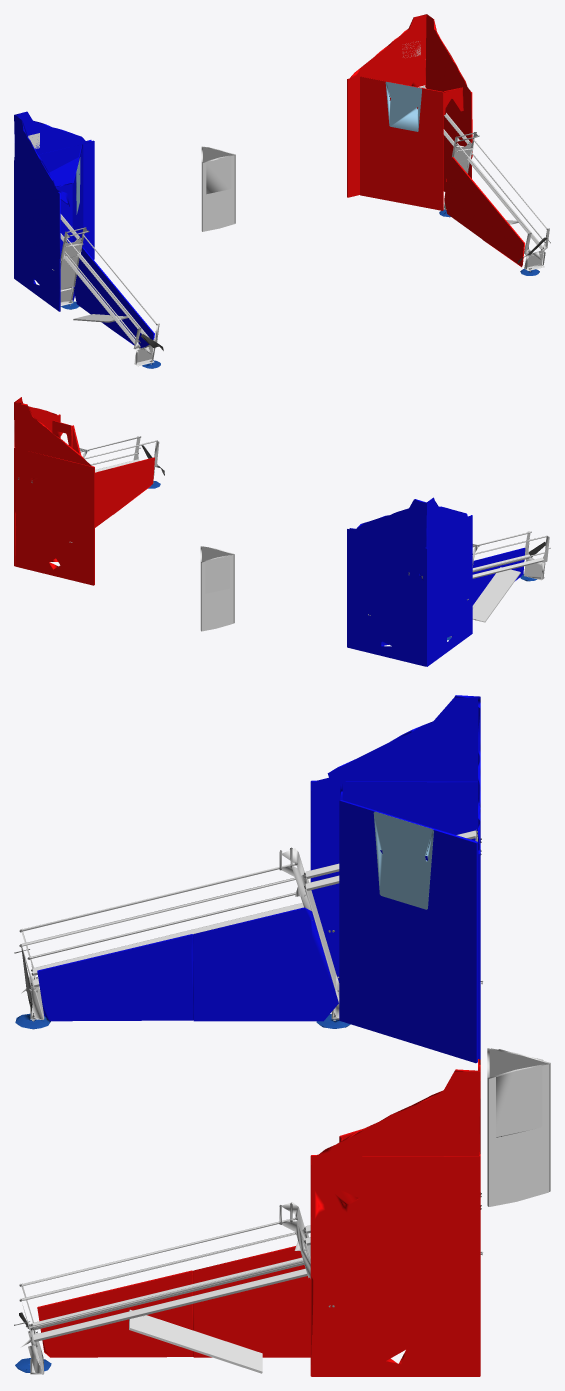
Rendered from decode-field-collision.glb.
3 renders of one model, top to bottom at view 1: azimuth 30°, elevation 25°; view 2: azimuth 150°, elevation 25°; view 3: azimuth 270°, elevation 25°, orthographic. The views are drawn at different scales.
Size of the model in its own units: 3.61 by 1.38 by 2.17.
